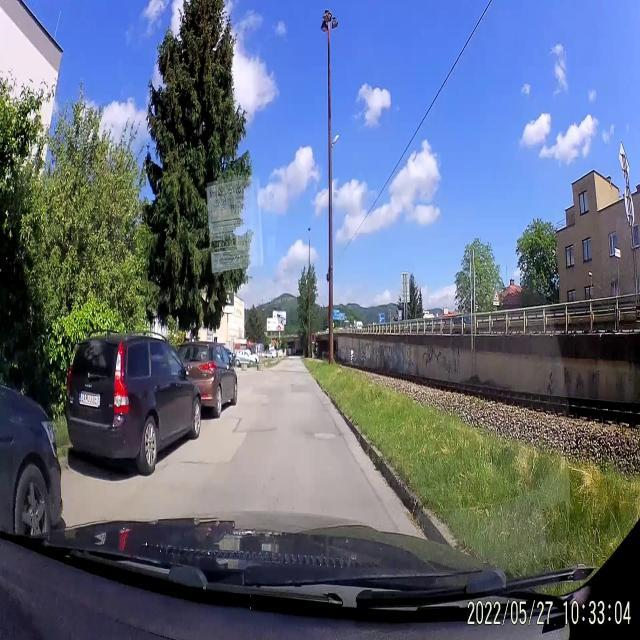Manhole: (310, 428, 340, 442)
